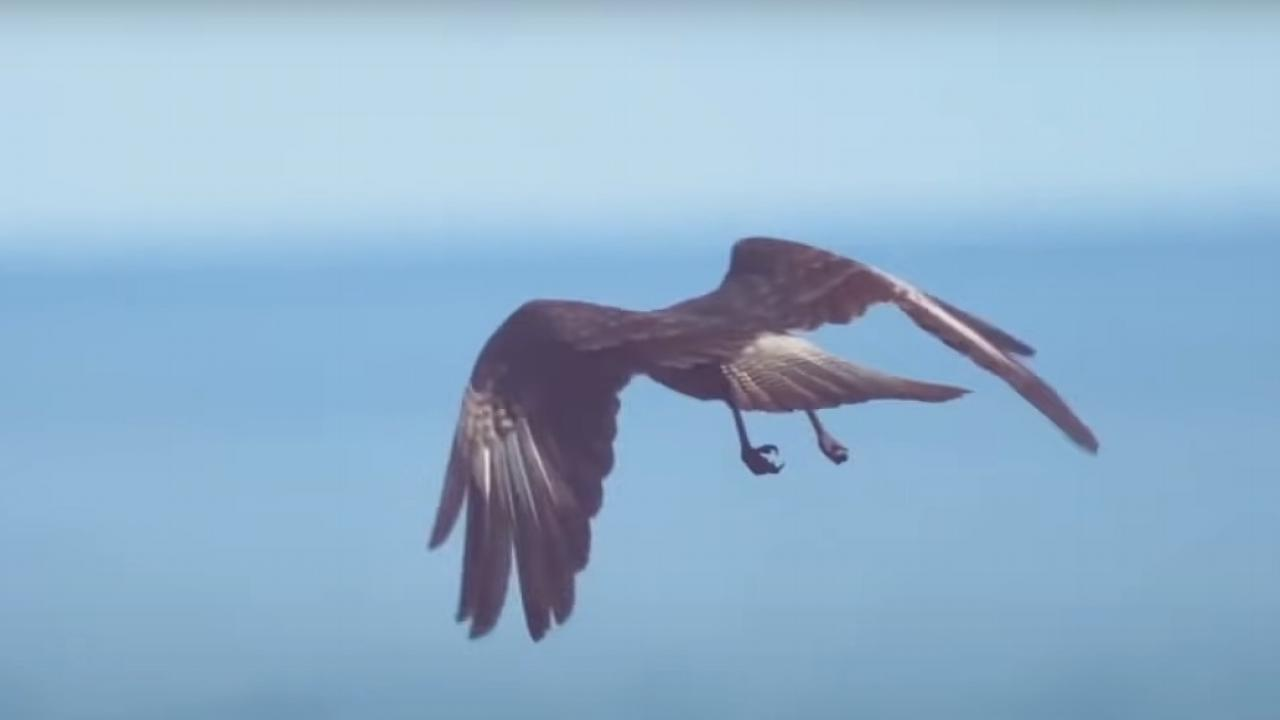Bird: (414, 221, 1120, 654)
